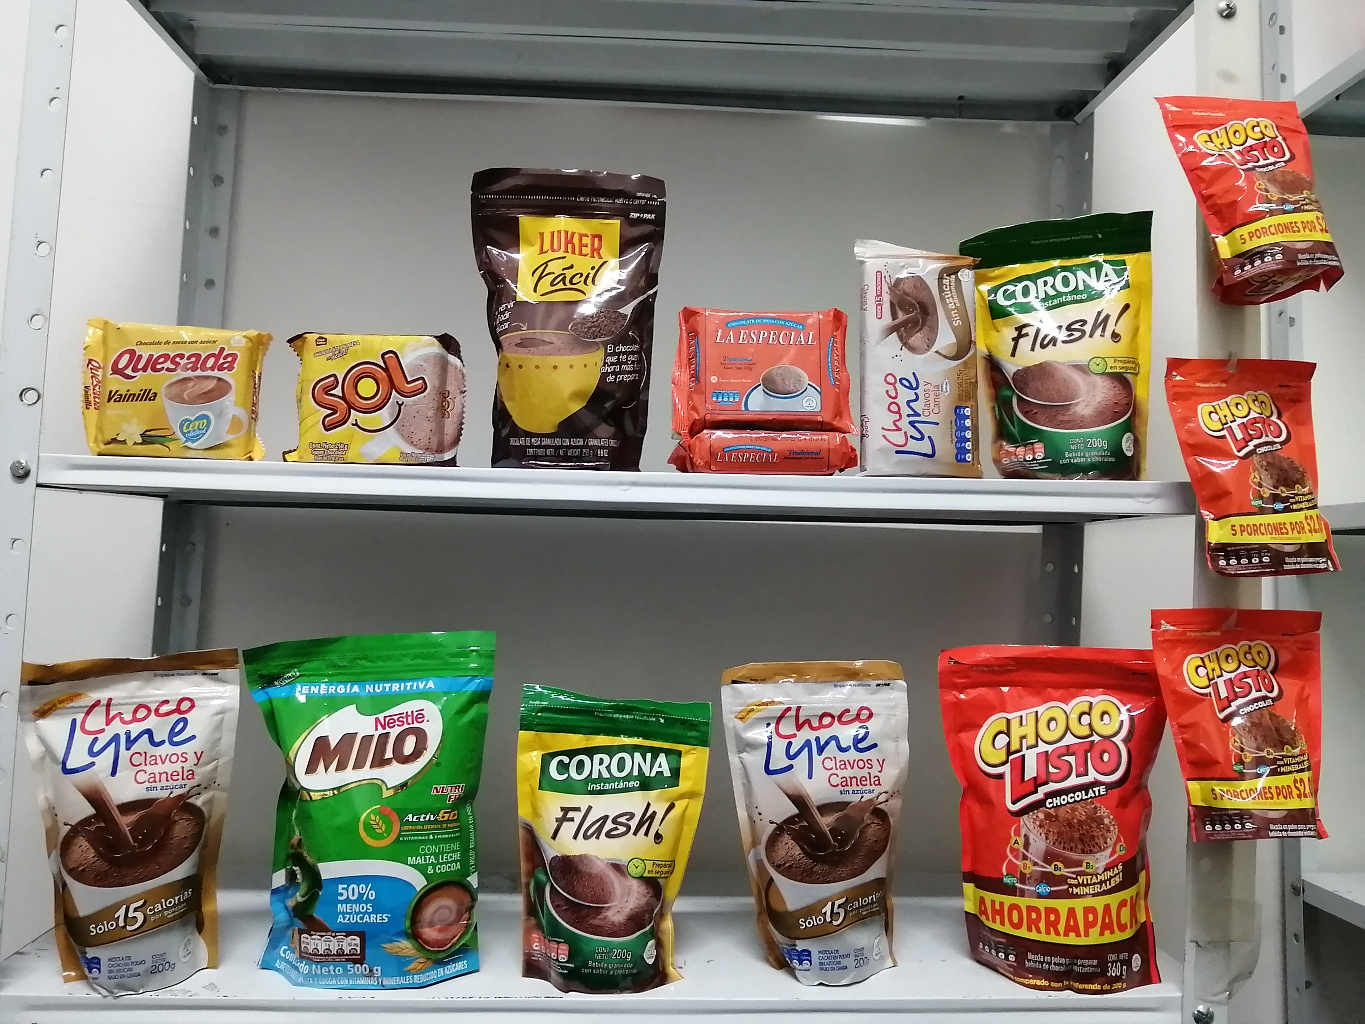COL0170103DYP36000: (939, 643, 1208, 1007)
COL0170205DYP50000: (221, 618, 500, 996)
